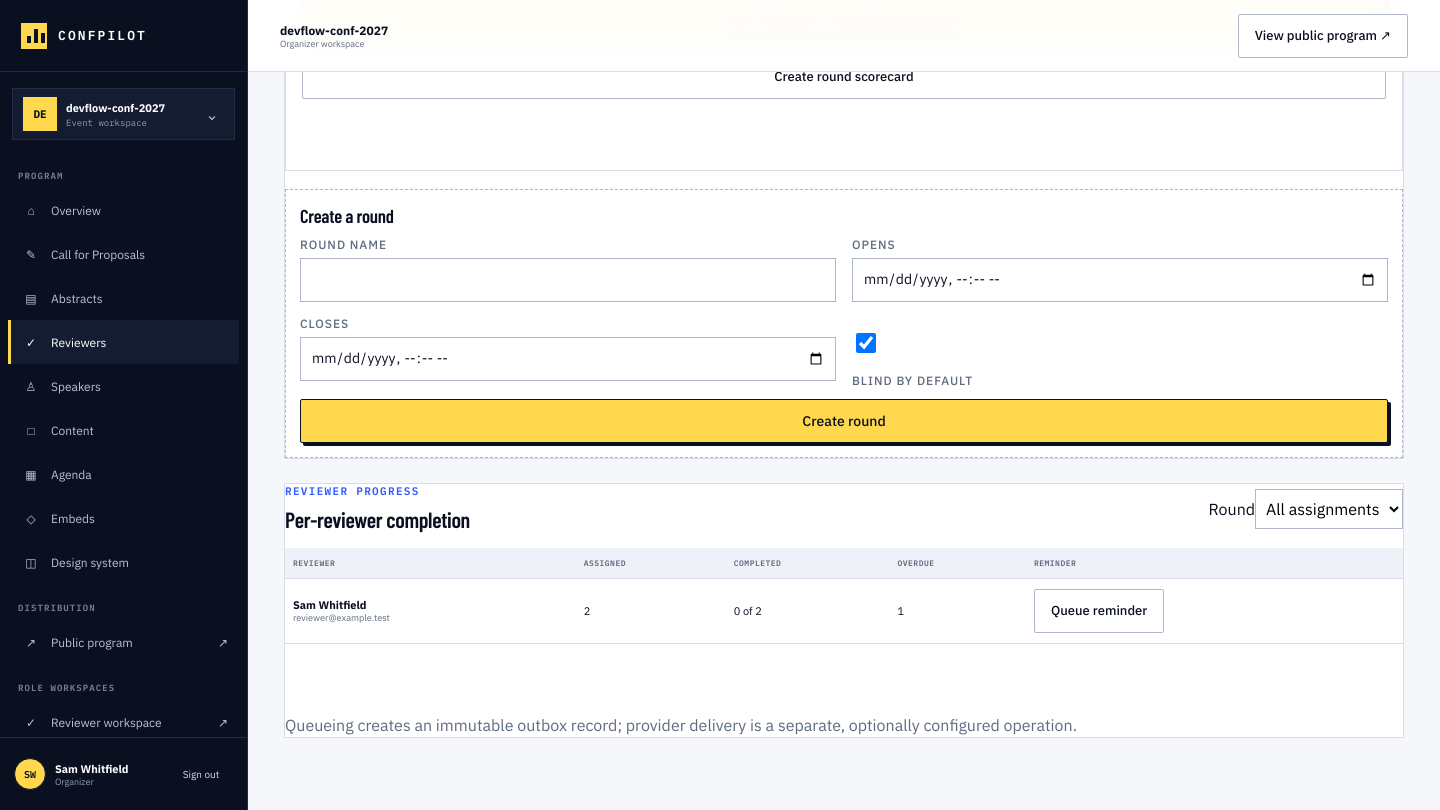
Scenario: ConfPilot Phase 0 shell › shows review rounds with pools and per-reviewer progress, and queues a reviewer reminder truthfully
The image size is (1440, 810).
(page scrolled)
Expected: the heading "Per-reviewer completion" is shown, left=285, top=506, right=470, bottom=534
Expected: the text "0 of 2" is shown, left=726, top=578, right=890, bottom=643
Step 1. Click the button "Queue reminder" → (1099, 610), box left=1034, top=588, right=1164, bottom=632
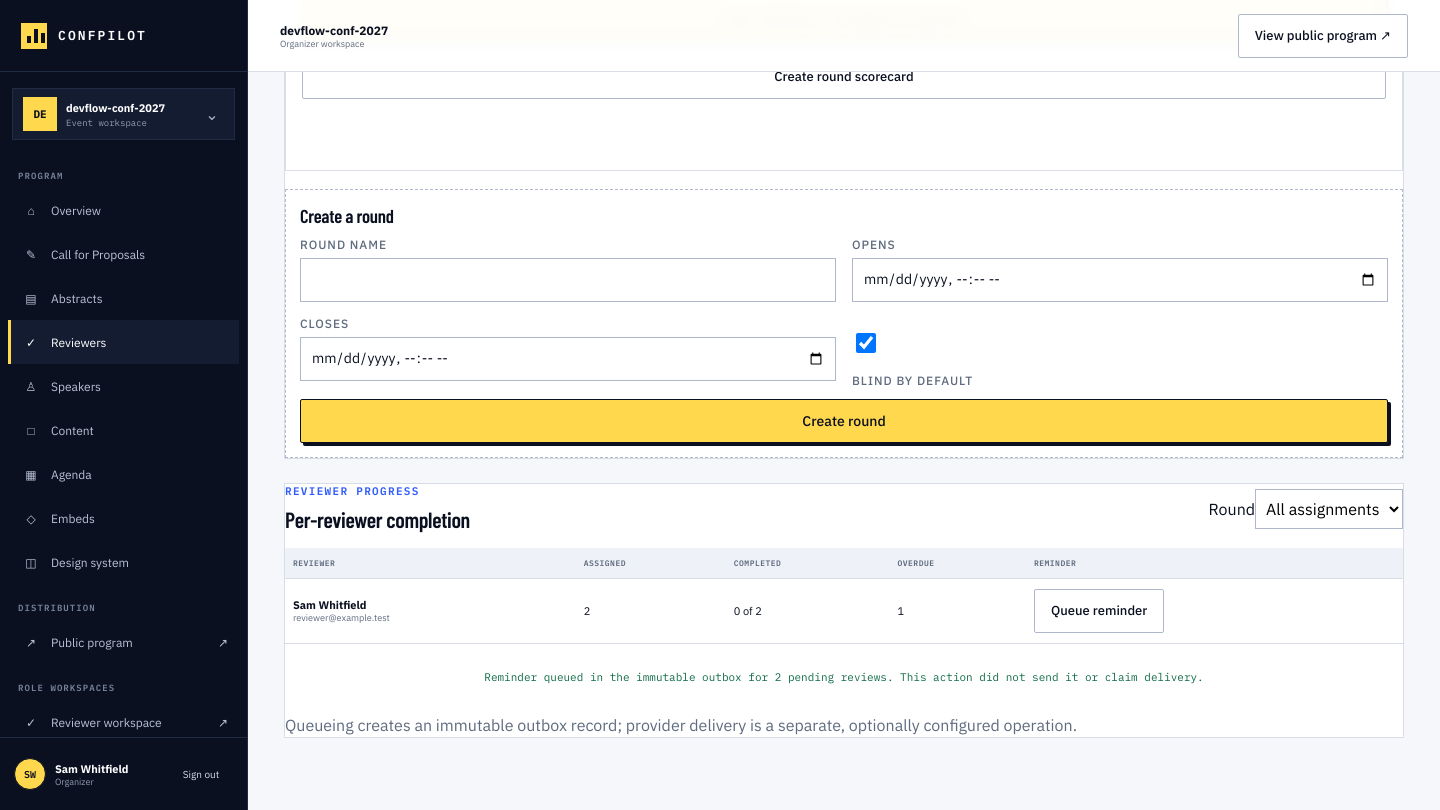
Result: the text "Reminder queued in the immutable outbox" shows "did not send it or claim delivery" at left=484, top=670, right=1204, bottom=684
